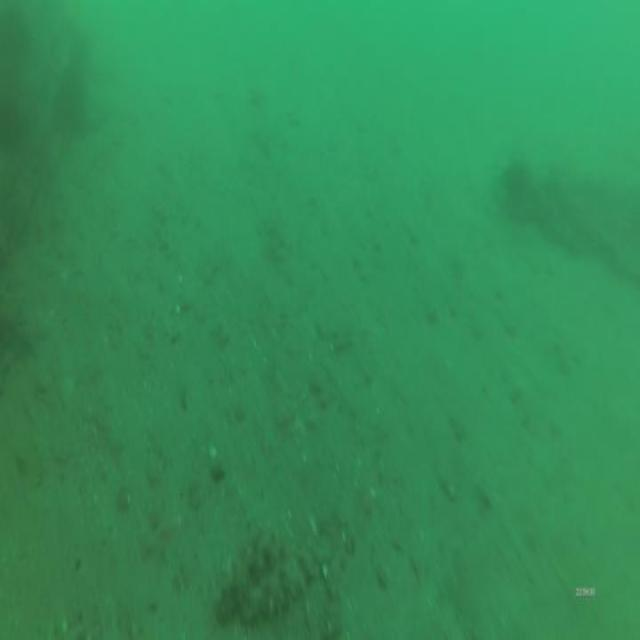holothurian: (244, 539, 326, 621), (216, 528, 279, 622)
